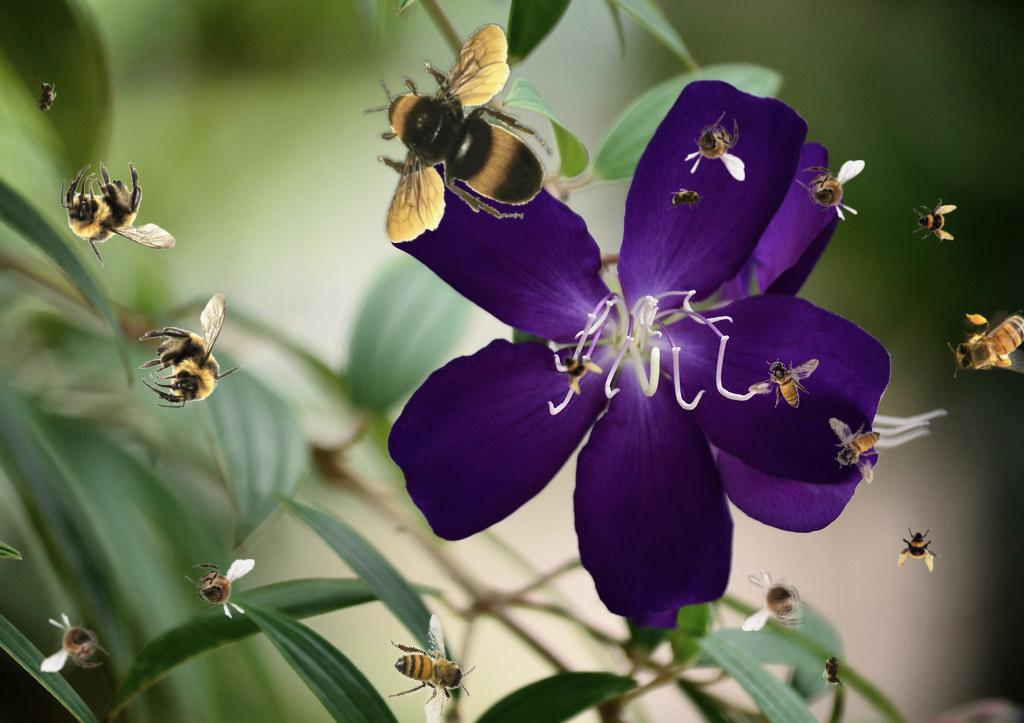Bee: (362, 23, 553, 243), (363, 606, 496, 723), (138, 293, 245, 408), (61, 161, 176, 268), (948, 310, 1024, 378), (181, 555, 256, 621), (827, 410, 889, 489), (39, 611, 112, 675), (742, 570, 812, 631), (684, 111, 745, 181), (795, 160, 865, 221), (546, 336, 610, 400), (748, 358, 819, 408), (895, 525, 943, 573), (913, 198, 957, 242), (29, 76, 61, 120), (822, 650, 844, 690), (667, 188, 707, 210)
